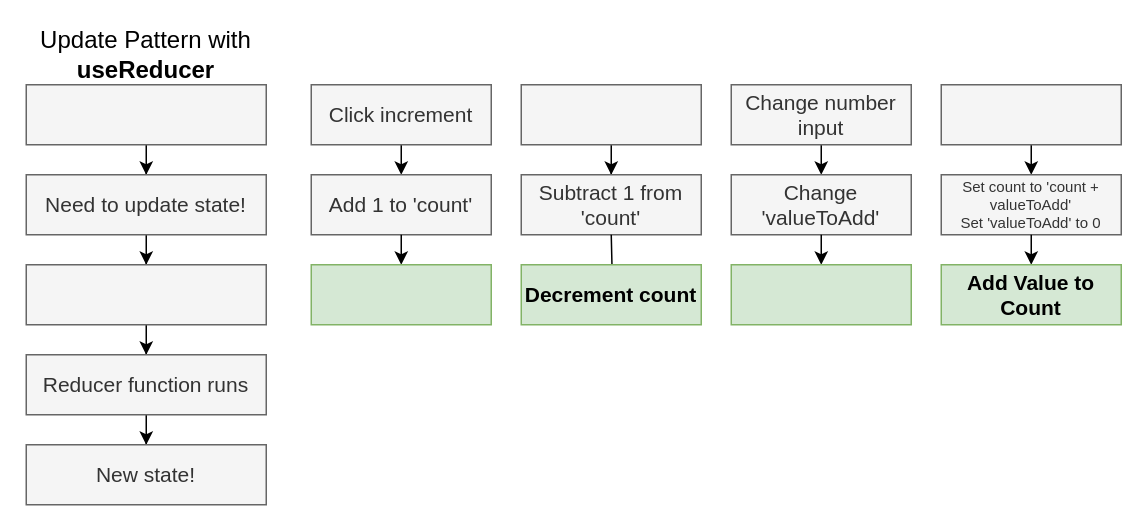
Image size: 1148x531. Some labels were removed from this diagram. Here are the shapes that lost their labels. From the top down, the centre of each, then its label:
At point 145,114: "User does a thing".
At point 610,114: "Click decrement".
At point 1030,114: "Submit the form".
At point 145,294: "Call dispatch() with action object".
At point 400,294: "Increment count".
At point 820,294: "Change ValueToAdd".
